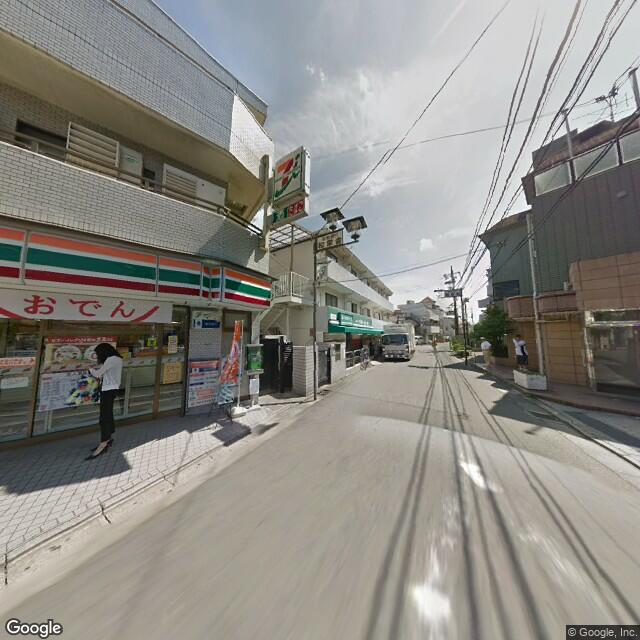7-eleven: (1, 225, 273, 312), (271, 145, 306, 203)
